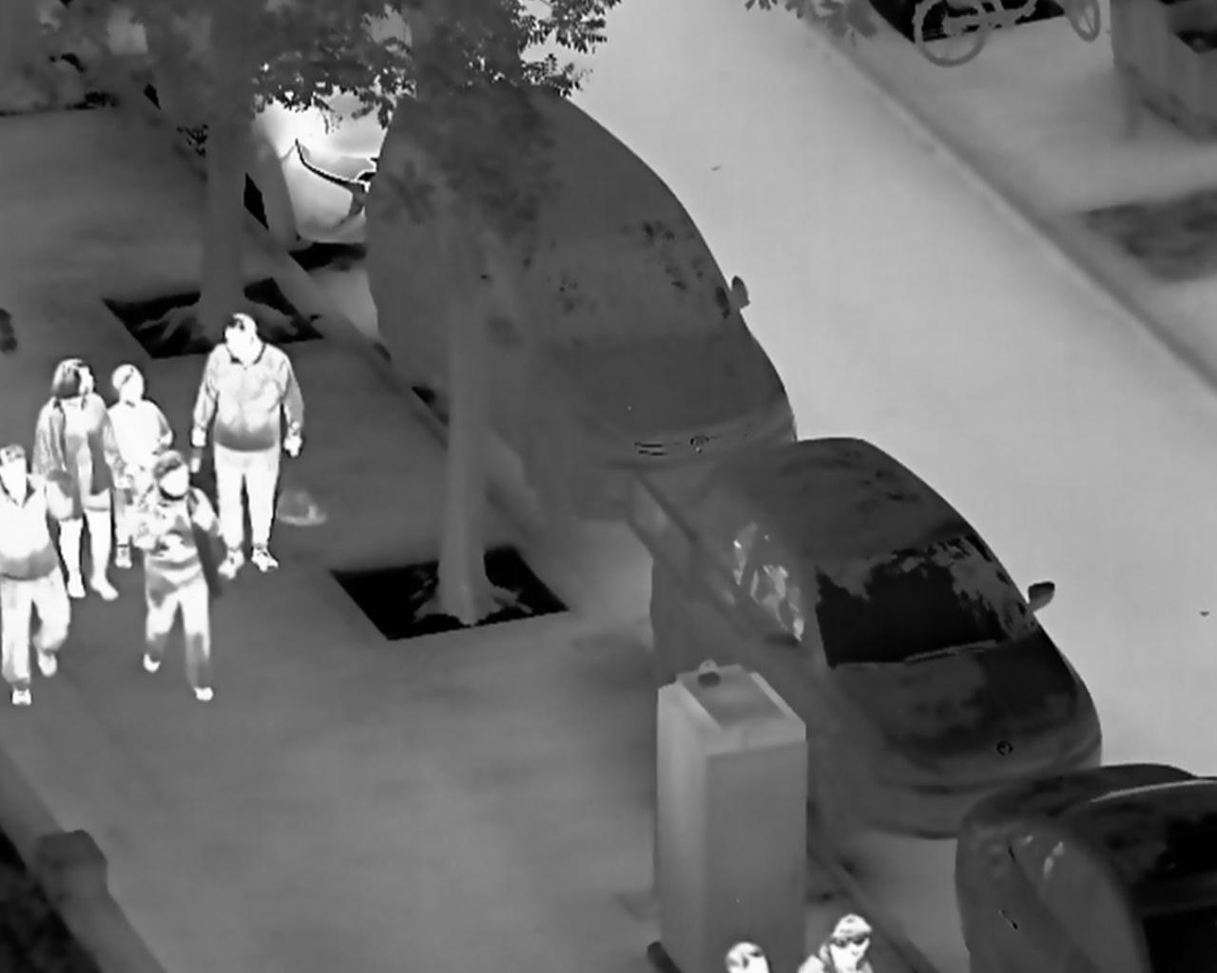person: (188, 312, 304, 584), (122, 448, 226, 707), (35, 357, 127, 603), (104, 362, 165, 506)
